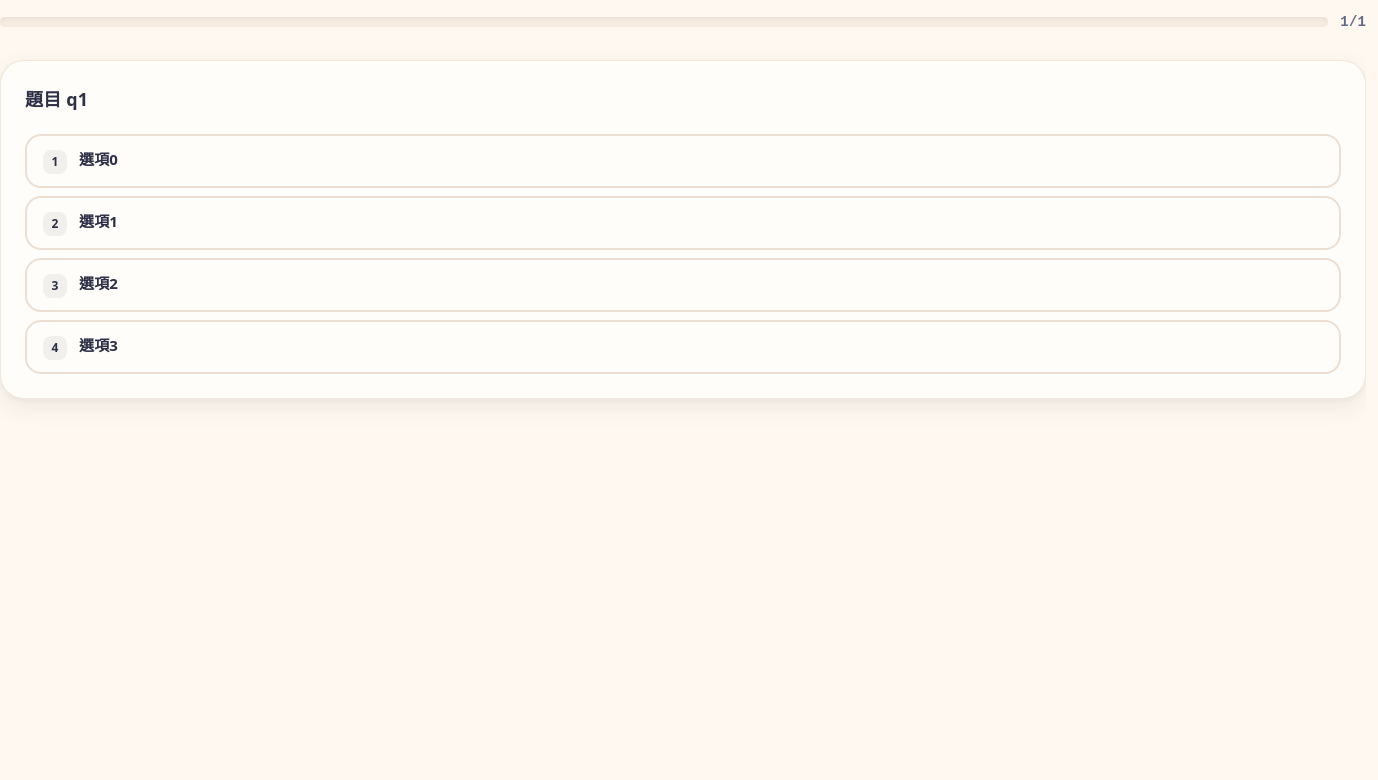
Test: ExercisePlayer › 答錯時同時顯示「所選選項為何錯」與題目通用解釋
Click the text "選項2". click: (99, 284)
box: [79,272,118,295]
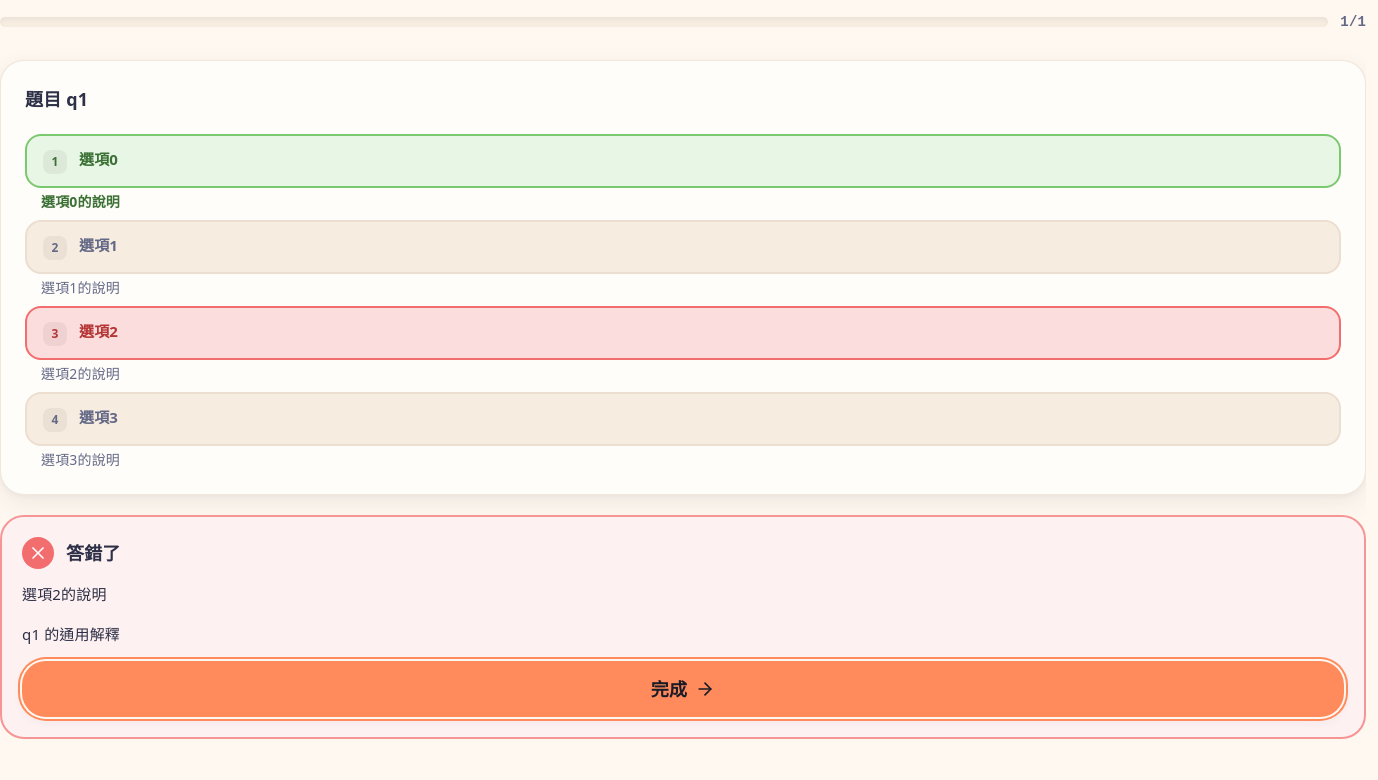
Now the text "答錯了" is shown, box [66,539,120,567]
Now the text "選項2的說明" below "選項1的說明" is shown, box [41,364,120,383]
Now the text "q1 的通用解釋" is shown, box [22,624,120,644]
